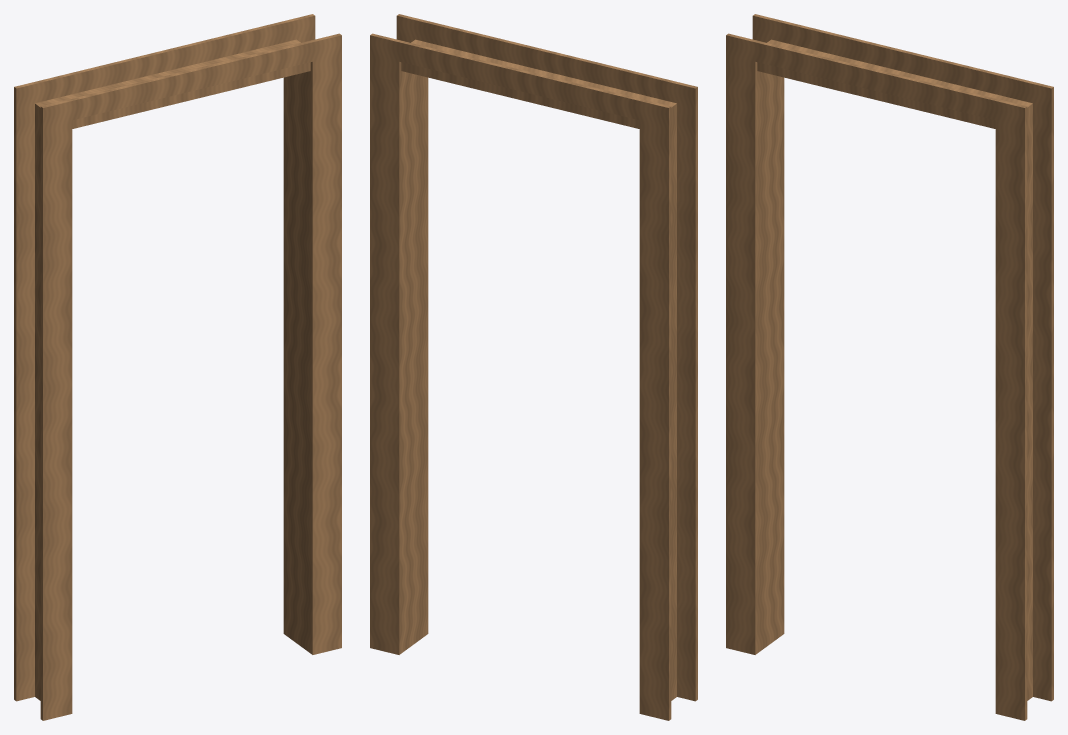
File: mlo_door_frame_oak.glb
The picture shows the model from 3 angles, left to right: view 1: azimuth 30°, elevation 25°; view 2: azimuth 150°, elevation 25°; view 3: azimuth 330°, elevation 25°; orthographic projection.
Parts seen in each view (by area): view 1: Door_Frame_Oak; view 2: Door_Frame_Oak; view 3: Door_Frame_Oak.
Part boxes in pixels (<box>): Door_Frame_Oak: <box>14,14,341,720</box>; Door_Frame_Oak: <box>370,14,697,720</box>; Door_Frame_Oak: <box>726,14,1053,720</box>.
Size of the model in its own units: 1.13 by 2.21 by 0.19.
Materials: 1 (1 with a texture image).
